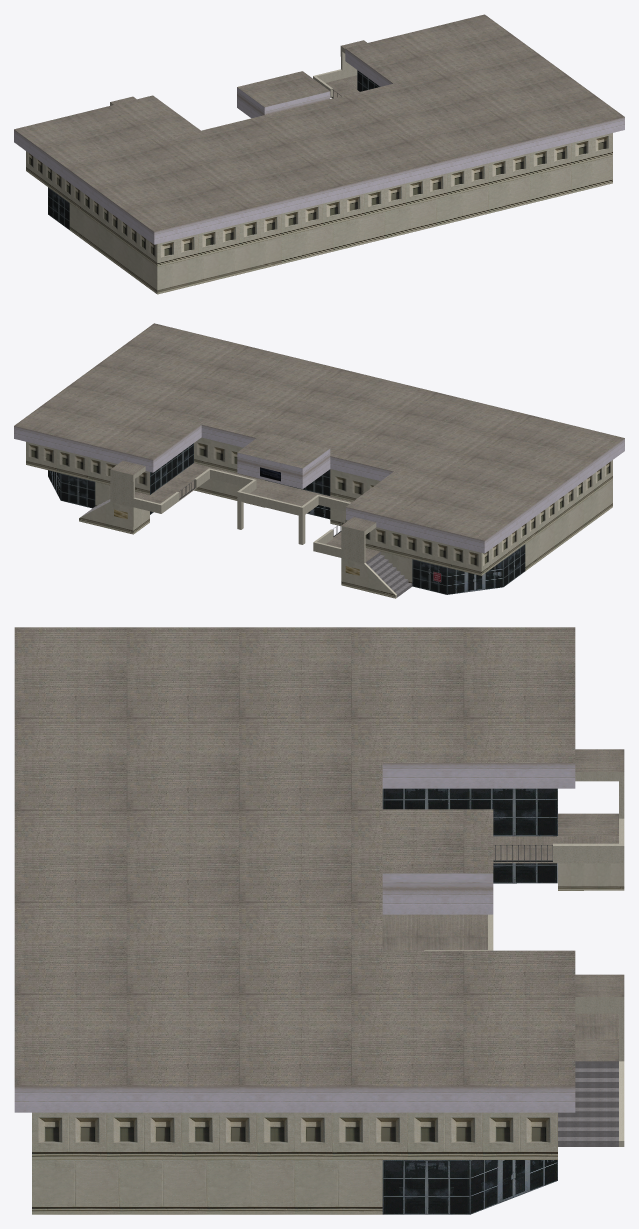
File: flghtschl01_lvs.obj
3 renders of one model, top to bottom at view 1: azimuth 30°, elevation 25°; view 2: azimuth 150°, elevation 25°; view 3: azimuth 270°, elevation 25°, orthographic. The views are drawn at different scales.
Parts seen in each view (by area): view 1: flghtschl01_lvs; view 2: flghtschl01_lvs; view 3: flghtschl01_lvs.
Part boxes in pixels (x1,y1,x2,y2): flghtschl01_lvs: (14, 14, 624, 294); flghtschl01_lvs: (14, 323, 624, 598); flghtschl01_lvs: (14, 627, 624, 1214).
Size of the model in its own units: 62.05 by 9.65 by 34.79.
27 materials, 27 textured.
